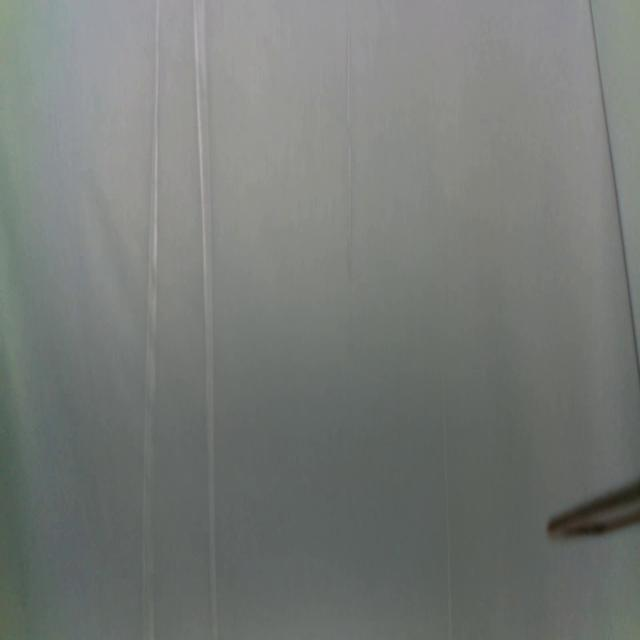crease: (587, 0, 640, 383), (192, 0, 222, 640), (142, 0, 163, 640), (439, 409, 457, 640), (346, 30, 354, 254)
